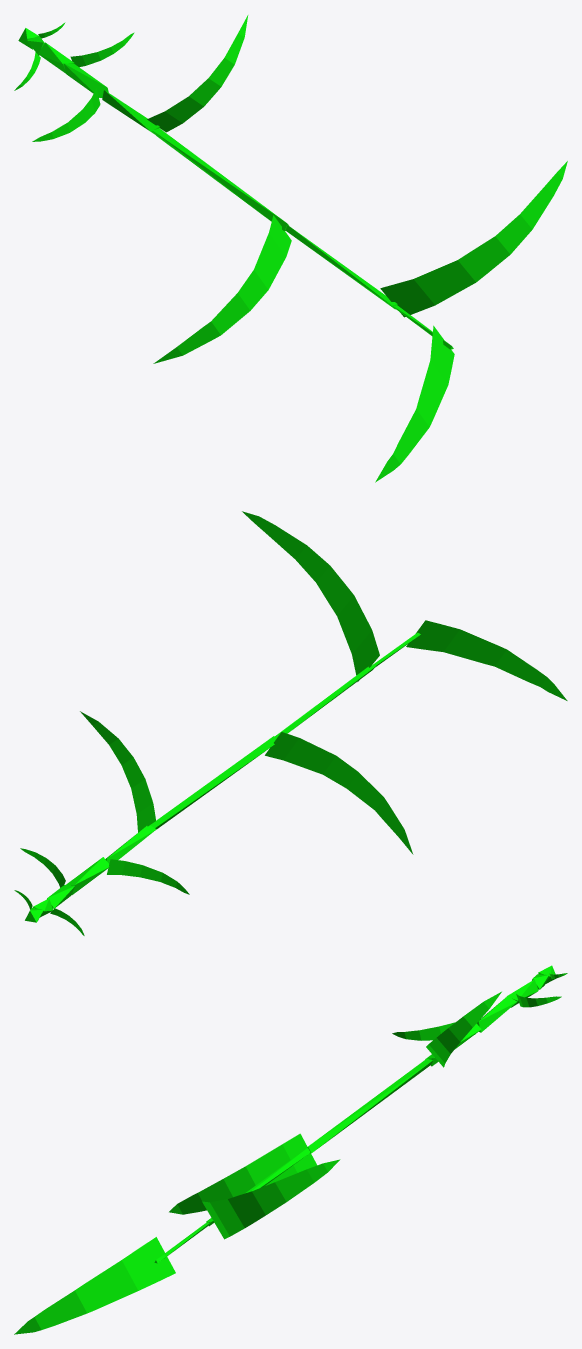
File: usm_10_2.5D_2018-08-24_0.obj
3 views of the same model, one above another, from view 1: azimuth 30°, elevation 25°; view 2: azimuth 150°, elevation 25°; view 3: azimuth 330°, elevation 25° (orthographic). The views are drawn at different scales.
Parts seen in each view (by area): view 1: vid_16, vid_14, vid_18, vid_12, vid_13, vid_15, vid_10, vid_11, vid_9, vid_8; view 2: vid_16, vid_14, vid_18, vid_12, vid_13, vid_10, vid_15, vid_9; view 3: vid_18, vid_16, vid_14, vid_12, vid_13, vid_10, vid_9, vid_15.
Part boxes in pixels (x1,y1,x2,y2): vid_16: (380,161,567,317); vid_14: (153,215,291,363); vid_18: (375,325,454,482); vid_12: (147,15,248,132); vid_13: (152,128,288,230); vid_15: (285,225,397,309); vid_10: (32,88,100,141); vid_11: (102,90,159,134); vid_9: (63,63,108,97); vid_8: (70,32,134,67); vid_16: (242,511,379,681); vid_14: (265,732,413,854); vid_18: (406,620,567,700); vid_12: (80,711,155,832); vid_13: (150,736,275,829); vid_10: (107,859,189,894); vid_15: (274,665,375,739); vid_9: (66,857,109,894); vid_18: (14,1237,175,1334); vid_16: (202,1159,340,1239); vid_14: (169,1133,317,1214); vid_12: (426,991,501,1067); vid_13: (307,1059,432,1153); vid_10: (392,1022,475,1040); vid_9: (477,996,517,1032); vid_15: (206,1148,310,1226).
Size of the model in its own units: 79.66 by 54.28 by 213.
